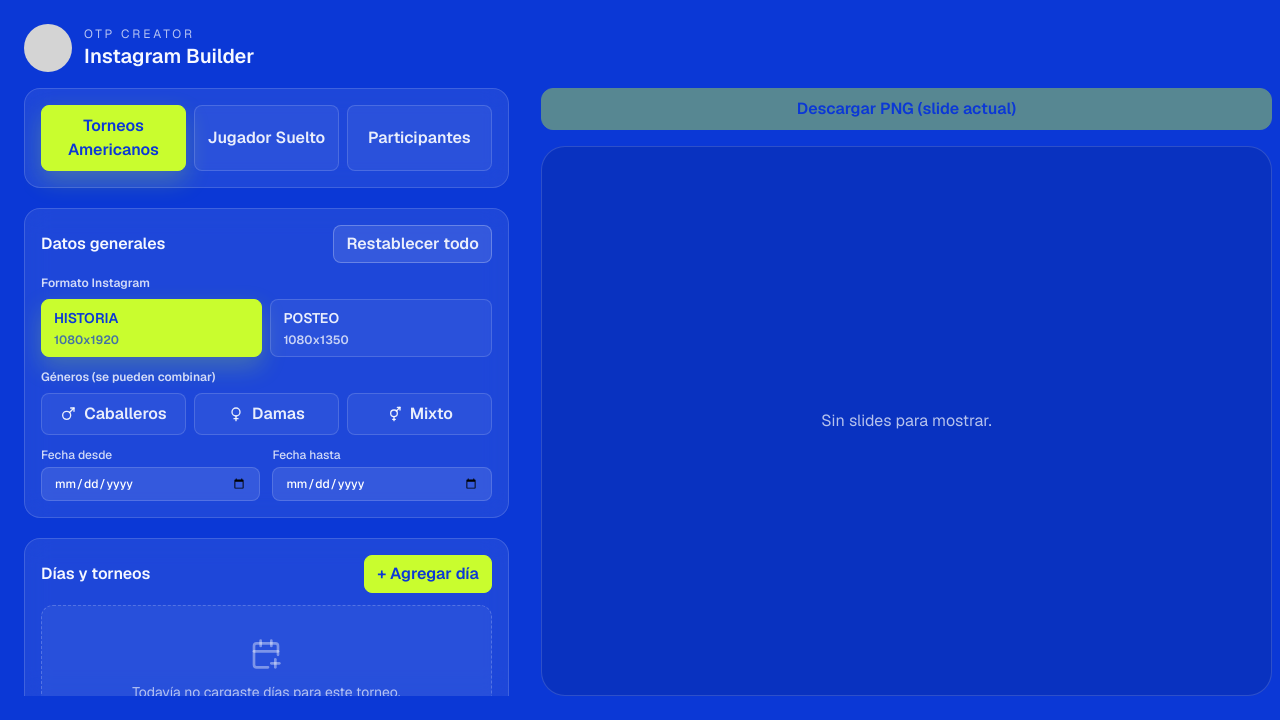
Scenario: PostBuilder › separa la edición de días y torneos por género
Click the button "Caballeros" at (113, 414), box [41,393,186,435]
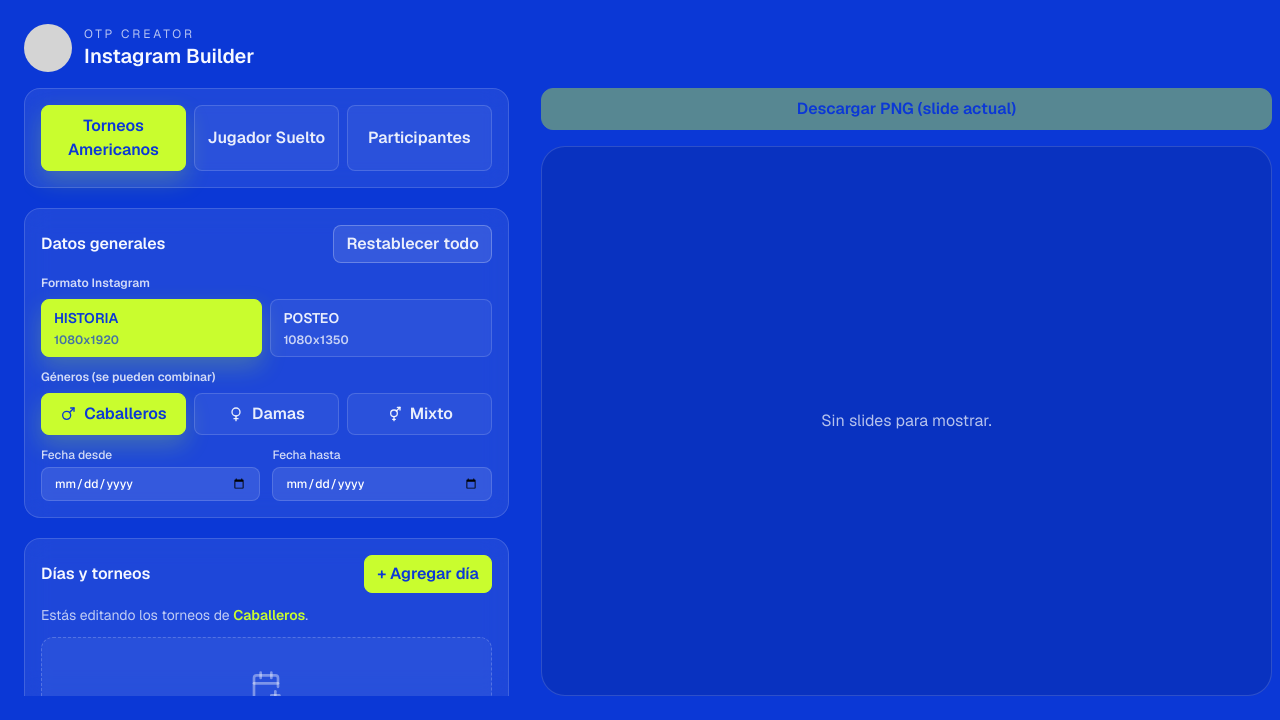
Click the button "Damas" at (266, 414), box [194,393,339,435]
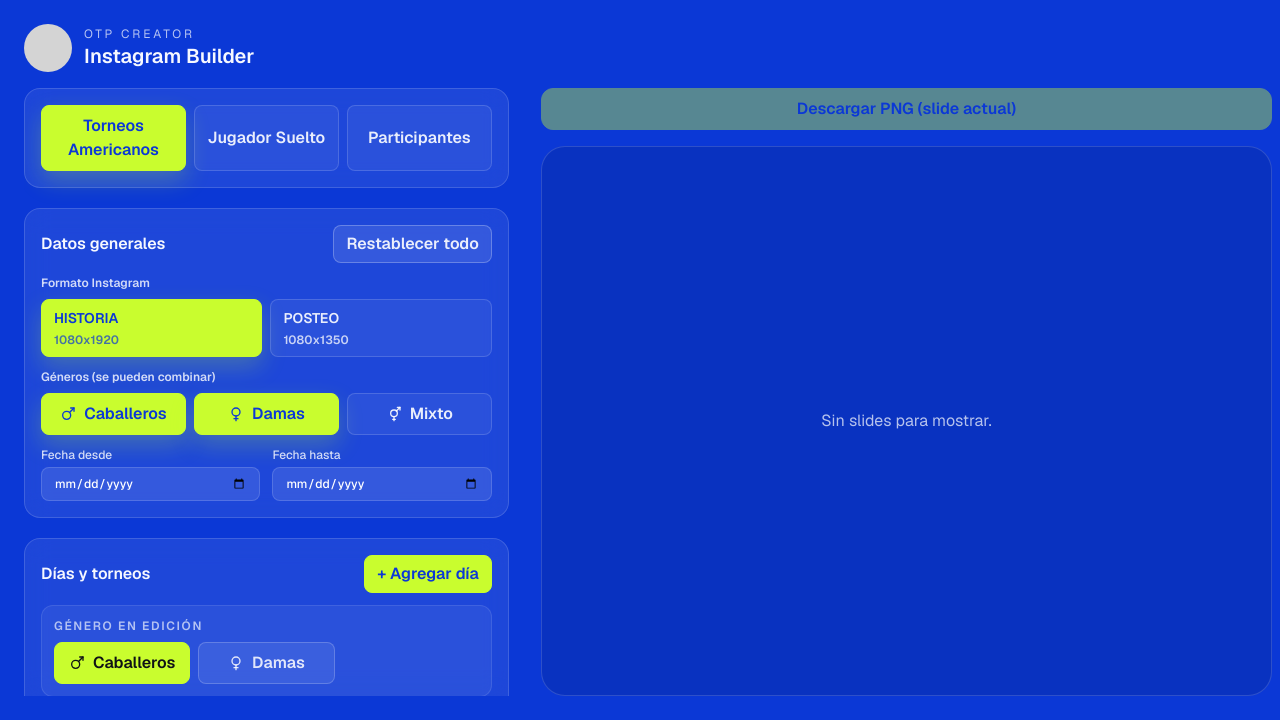
Expected: the text "Caballeros" below "Géneros (se pueden combinar)" is shown, [84,403,167,424]
Click the button "+ Agregar día" at (428, 574), box [364,555,492,593]
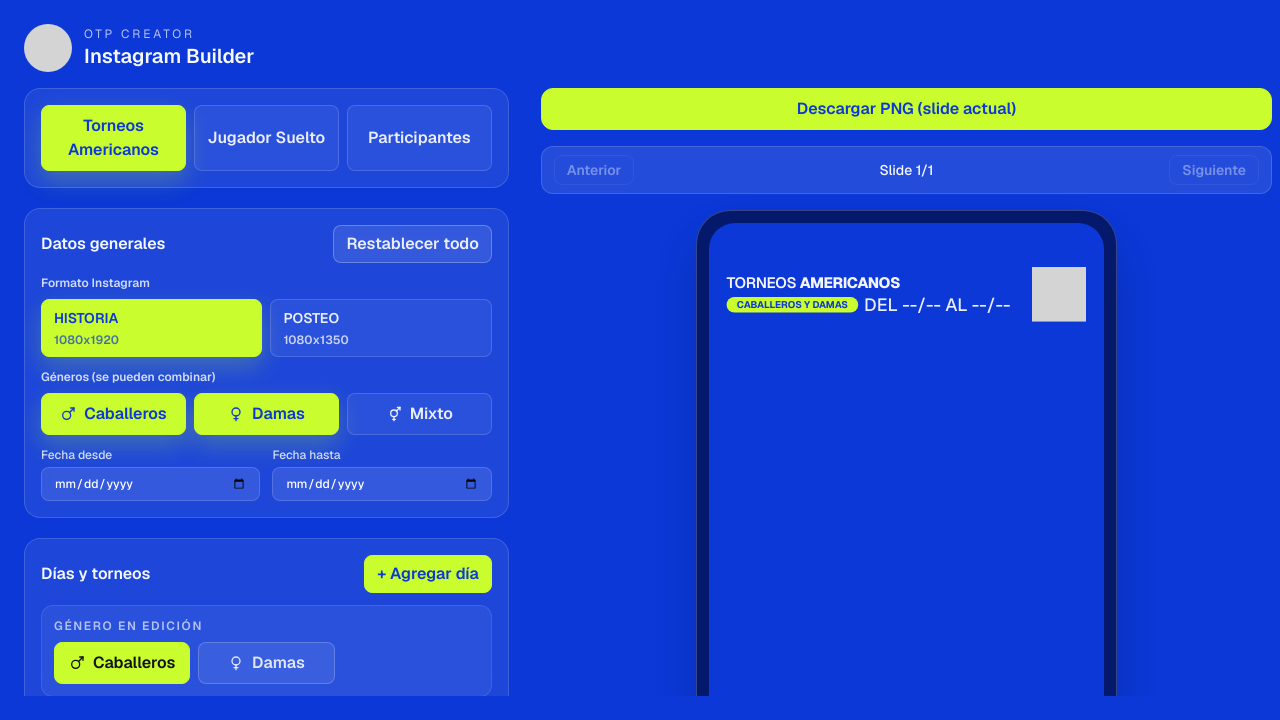
Click the button with aria-label "Editar Damas" at (266, 663), box [198,642,335,684]
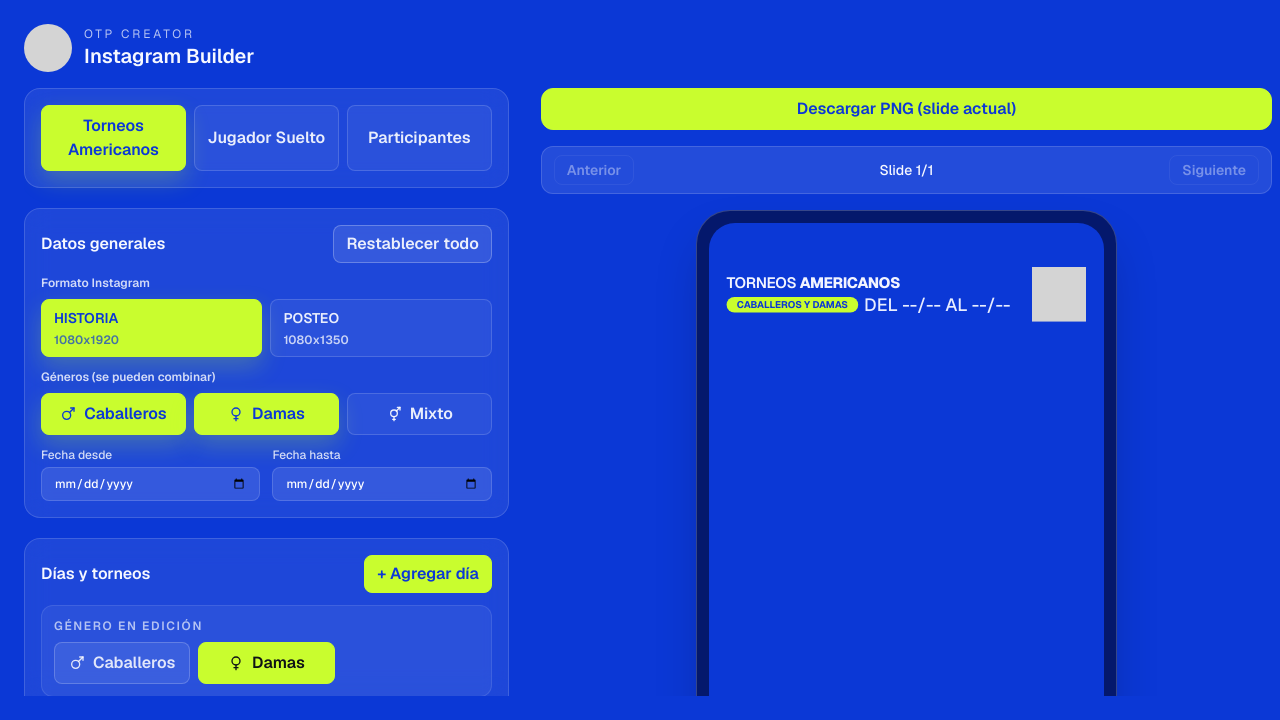
Expected: the text "Damas" below "Géneros (se pueden combinar)" is shown, [252,403,305,424]
Expected: the text "Día 1" is not shown
Click the button "+ Agregar día" at (428, 574), box [364,555,492,593]
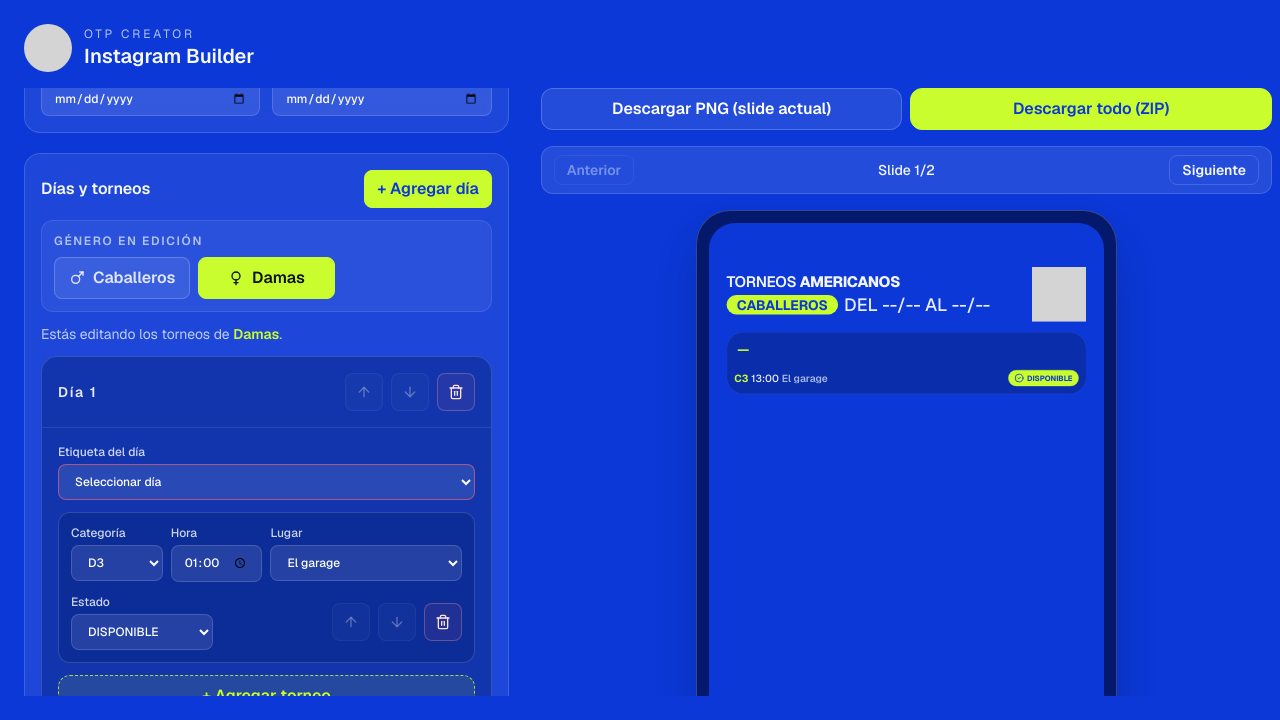
Expected: the text "Día 1" is shown, [58,382,98,402]
